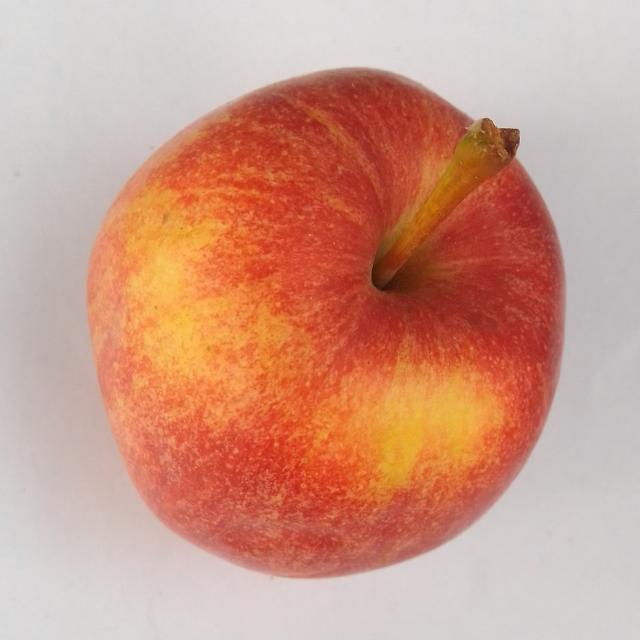Fresh Apple: (77, 62, 575, 583)
